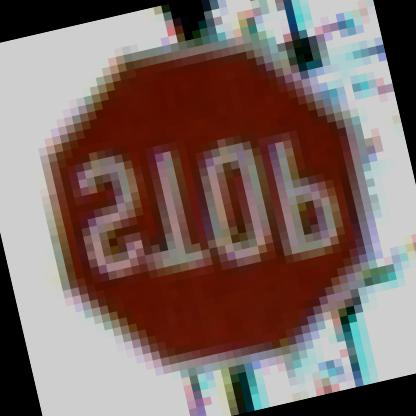stop: (0, 6, 407, 408)
